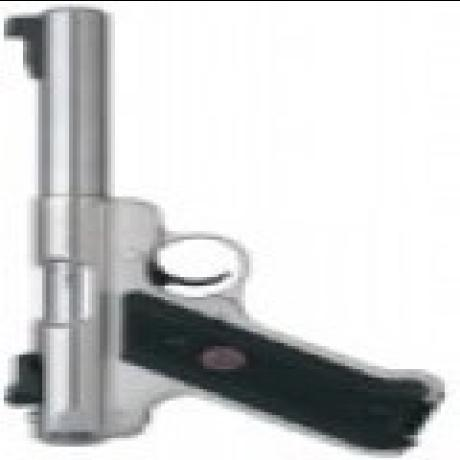weapon: (3, 0, 460, 459)
